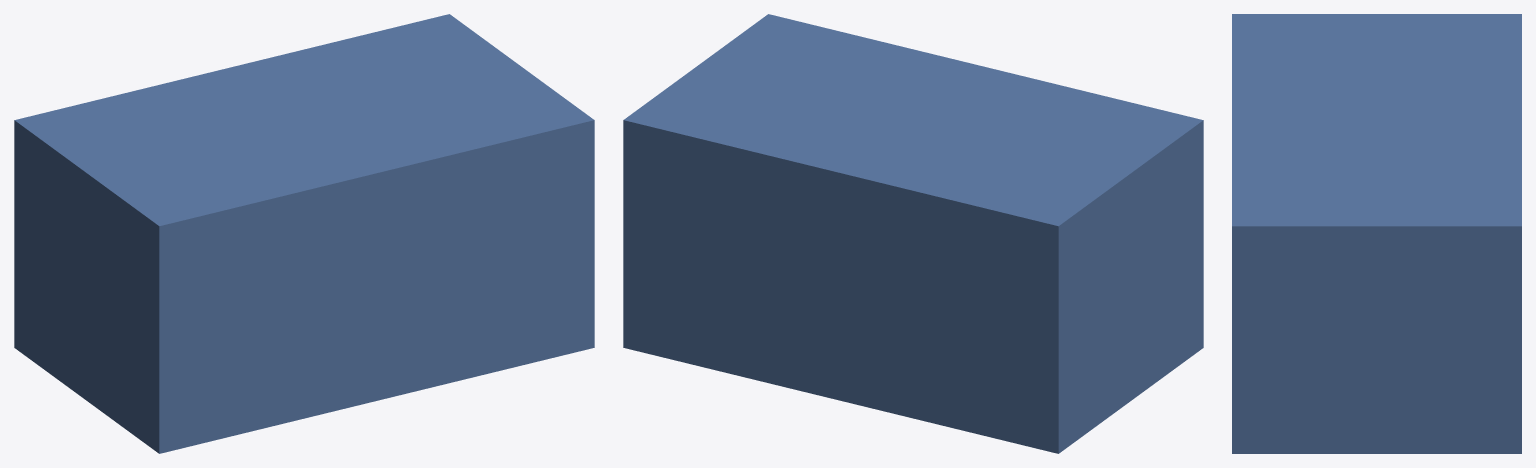
Rendered from quad_14_lake_lake_lake_lake.glb.
The picture shows the model from 3 angles, left to right: view 1: azimuth 30°, elevation 25°; view 2: azimuth 150°, elevation 25°; view 3: azimuth 270°, elevation 25°; orthographic projection.
Parts seen in each view (by area): view 1: Quad.010; view 2: Quad.010; view 3: Quad.010.
Part boxes in pixels (x1,y1,x2,y2): Quad.010: (14, 14, 594, 453); Quad.010: (623, 14, 1203, 453); Quad.010: (1232, 14, 1521, 453).
Size of the model in its own units: 1 by 0.5 by 0.577.
